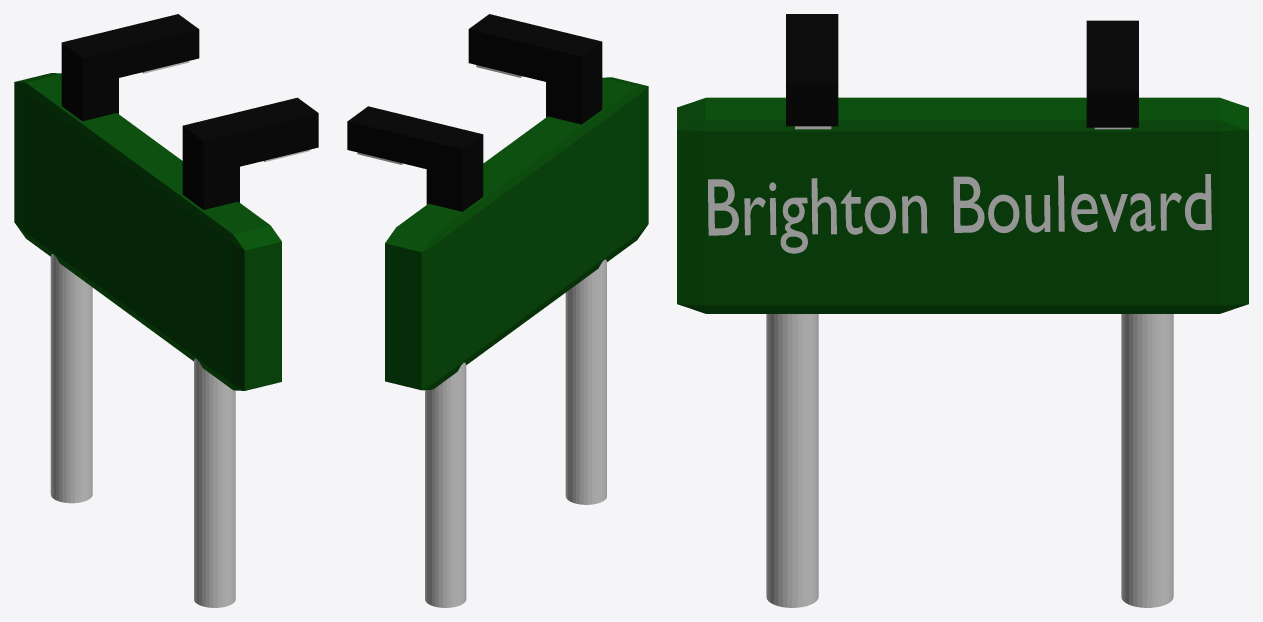
Rendered from UK_road_start_2.fbx.
The picture shows the model from 3 angles, left to right: view 1: azimuth 30°, elevation 25°; view 2: azimuth 150°, elevation 25°; view 3: azimuth 270°, elevation 25°; orthographic projection. The views are drawn at different scales.
Visible parts, largest first — view 1: Cube, Cylinder.001, Cylinder, Cube.001, Cube.002; view 2: Cube, Cylinder.001, Cylinder, Cube.001, Cube.002; view 3: Cube, Cylinder, Cylinder.001, Text, Cube.001, Cube.002.
Part boxes in pixels (bbox=[...]): Cube: bbox=[14, 73, 281, 390]; Cylinder.001: bbox=[50, 254, 92, 503]; Cylinder: bbox=[194, 358, 235, 607]; Cube.001: bbox=[182, 97, 318, 209]; Cube.002: bbox=[61, 14, 199, 121]; Cube: bbox=[385, 77, 648, 390]; Cylinder.001: bbox=[425, 362, 466, 607]; Cylinder: bbox=[565, 259, 606, 504]; Cube.001: bbox=[468, 14, 602, 124]; Cube.002: bbox=[347, 106, 483, 211]; Cube: bbox=[677, 97, 1248, 313]; Cylinder: bbox=[766, 314, 818, 607]; Cylinder.001: bbox=[1121, 314, 1173, 607]; Text: bbox=[708, 174, 1211, 253]; Cube.001: bbox=[786, 14, 838, 126]; Cube.002: bbox=[1086, 20, 1138, 127].
Size of the model in its own units: 6.69 by 24.3 by 21.91.
